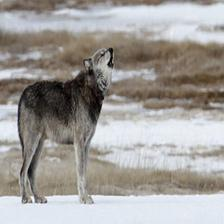WOLF: (16, 46, 117, 204)
